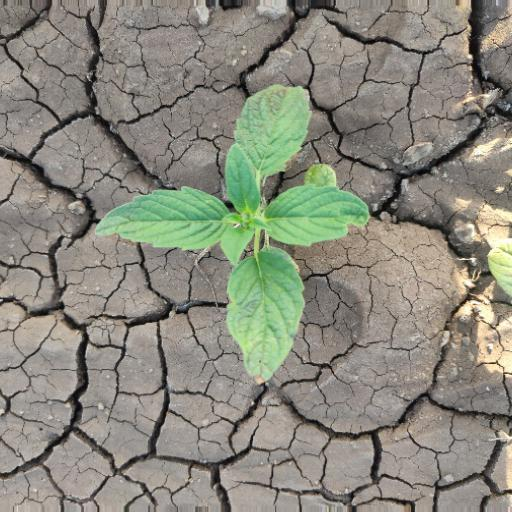crop: (88, 80, 372, 387)
